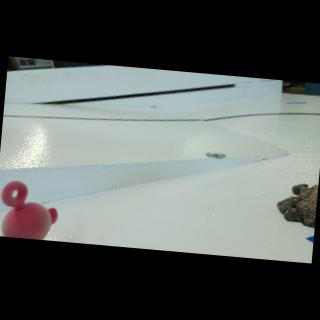teletubby: (1, 181, 58, 240)
